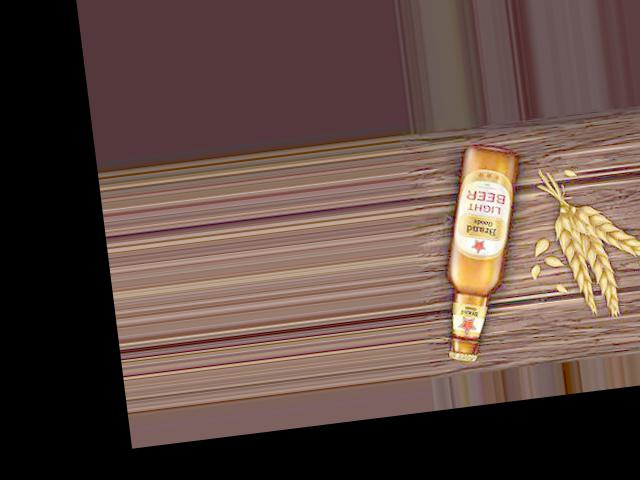beer: (422, 141, 540, 364)
